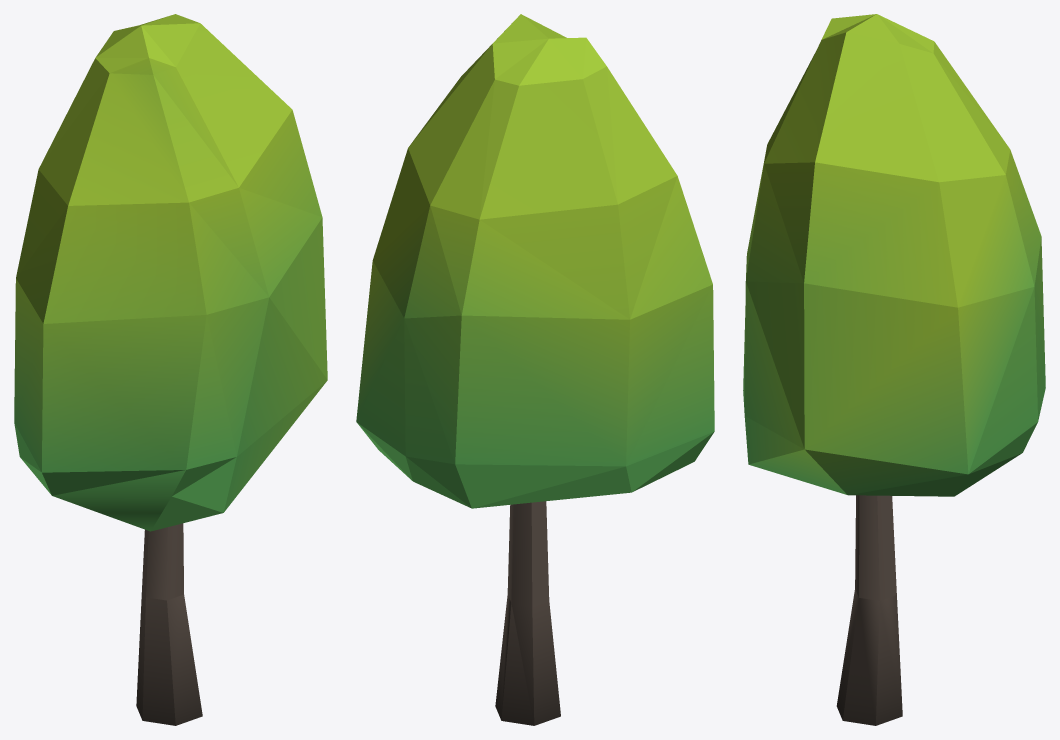
Rendered from tree_10.FBX.
3 views of the same model, side by side, from view 1: azimuth 30°, elevation 25°; view 2: azimuth 150°, elevation 25°; view 3: azimuth 270°, elevation 25° (orthographic).
Visible parts, largest first — view 1: tree_10; view 2: tree_10; view 3: tree_10.
Boxes of the visible parts, x1,y1,x2,y2 form: tree_10: (14, 14, 327, 725); tree_10: (356, 14, 714, 725); tree_10: (743, 14, 1045, 725).
Size of the model in its own units: 101 by 235 by 93.8.
